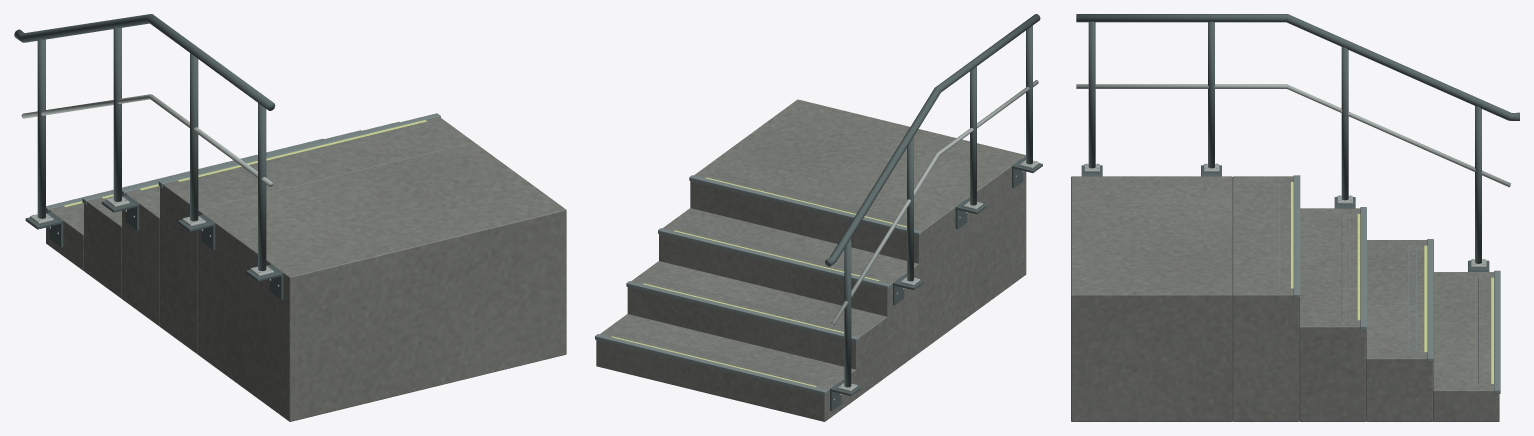
The model's file is stairs-open-view.glb.
The picture shows the model from 3 angles, left to right: view 1: azimuth 30°, elevation 25°; view 2: azimuth 150°, elevation 25°; view 3: azimuth 270°, elevation 25°; orthographic projection. The views are drawn at different scales.
Parts seen in each view (by area): view 1: stairs__Warm_architectural_concrete, stairs__Brushed_charcoal_handrail, stairs__Tread_nosing_anodised_aluminium, stairs__Satin_bead-blasted_aluminium, stairs__Subtle_safety_stripe; view 2: stairs__Warm_architectural_concrete, stairs__Tread_nosing_anodised_aluminium, stairs__Brushed_charcoal_handrail, stairs__Satin_bead-blasted_aluminium, stairs__Subtle_safety_stripe; view 3: stairs__Warm_architectural_concrete, stairs__Brushed_charcoal_handrail, stairs__Tread_nosing_anodised_aluminium, stairs__Satin_bead-blasted_aluminium, stairs__Subtle_safety_stripe.
Part boxes in pixels (x1,y1,x2,y2): stairs__Warm_architectural_concrete: (46, 117, 566, 421); stairs__Brushed_charcoal_handrail: (14, 14, 283, 299); stairs__Tread_nosing_anodised_aluminium: (46, 113, 440, 214); stairs__Satin_bead-blasted_aluminium: (21, 94, 279, 286); stairs__Subtle_safety_stripe: (64, 120, 426, 207); stairs__Warm_architectural_concrete: (596, 99, 1026, 421); stairs__Tread_nosing_anodised_aluminium: (595, 172, 922, 395); stairs__Brushed_charcoal_handrail: (825, 14, 1042, 411); stairs__Satin_bead-blasted_aluminium: (831, 80, 1039, 400); stairs__Subtle_safety_stripe: (611, 177, 906, 386); stairs__Warm_architectural_concrete: (1071, 176, 1499, 421); stairs__Brushed_charcoal_handrail: (1076, 14, 1519, 271); stairs__Tread_nosing_anodised_aluminium: (1274, 175, 1500, 393); stairs__Satin_bead-blasted_aluminium: (1076, 84, 1511, 267); stairs__Subtle_safety_stripe: (1291, 182, 1493, 383).
Bounding box in the file's own units: 1.75 × 1.77 × 2.55.
Materials: 5 (1 with a texture image).
